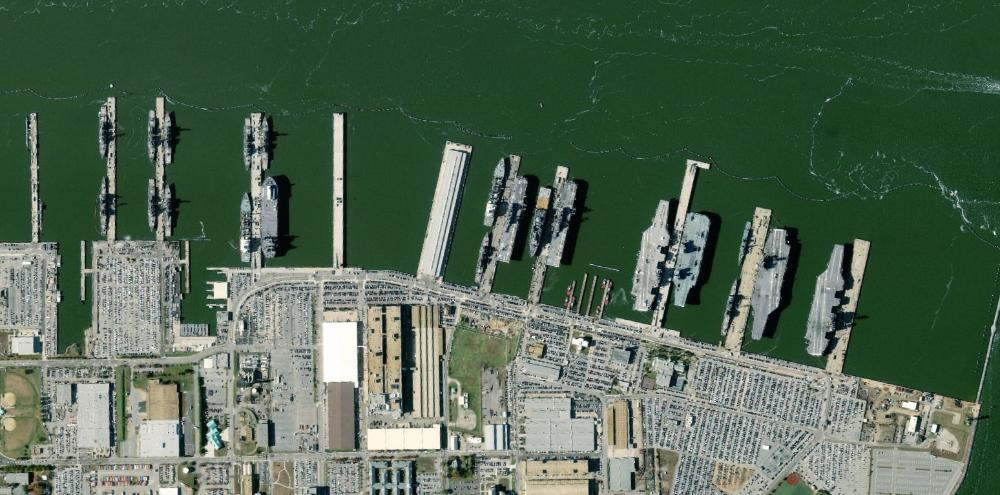destroyer: (99, 175, 111, 239)
fregate: (161, 111, 177, 168), (475, 227, 490, 286), (97, 103, 111, 159), (258, 112, 271, 172), (163, 182, 176, 239), (147, 108, 159, 164), (242, 117, 253, 172), (146, 177, 156, 232)
pha: (545, 175, 579, 267), (501, 170, 531, 266)
supply: (261, 174, 283, 259)
tender: (480, 149, 502, 228), (239, 191, 253, 264)
